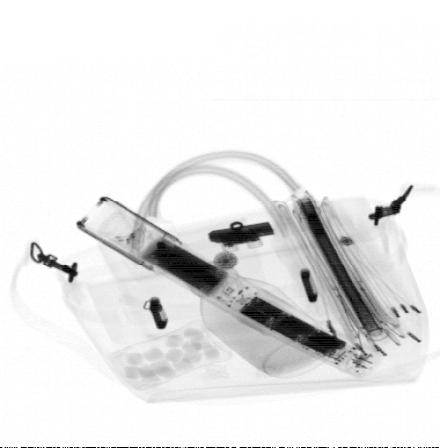Baton: (72, 194, 379, 379)
